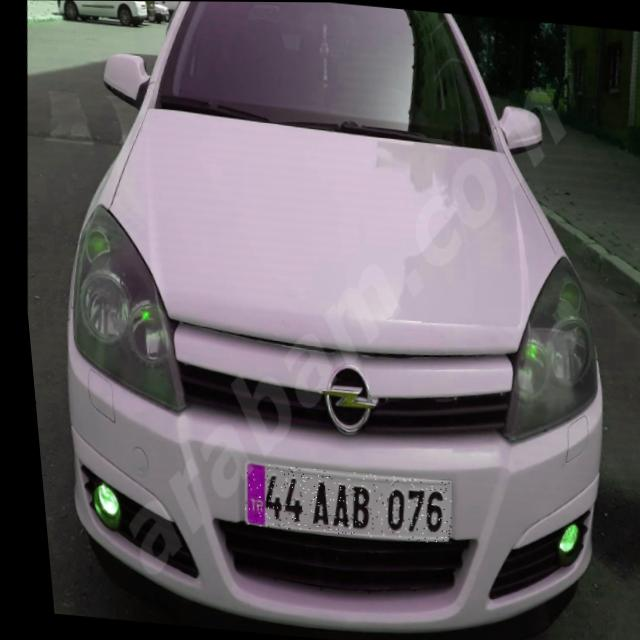license_plate: (230, 461, 446, 543)
